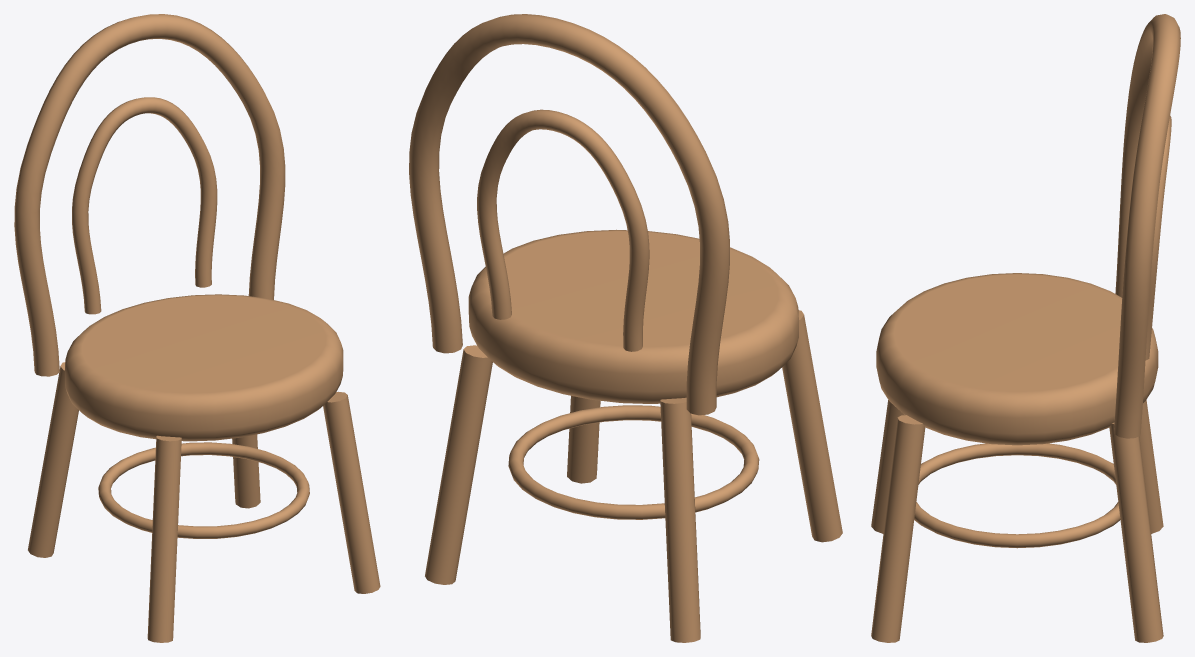
File: kitchenChairBistro.glb
3 renders of one model, left to right at view 1: azimuth 30°, elevation 25°; view 2: azimuth 150°, elevation 25°; view 3: azimuth 270°, elevation 25°, orthographic. The views are drawn at different scales.
Parts seen in each view (by area): view 1: Dining chair seat, Bentwood outer back, Bentwood inner back, Chair leg brace, Splayed chair leg, Splayed chair leg.002, Splayed chair leg.001, Splayed chair leg.003; view 2: Dining chair seat, Bentwood outer back, Bentwood inner back, Chair leg brace, Splayed chair leg.003, Splayed chair leg.001, Splayed chair leg, Splayed chair leg.002; view 3: Dining chair seat, Bentwood outer back, Splayed chair leg.002, Splayed chair leg.003, Chair leg brace, Splayed chair leg, Splayed chair leg.001, Bentwood inner back.
Boxes of the visible parts, left/top/right/bottom form: Dining chair seat: left=65, top=294, right=343, bottom=441; Bentwood outer back: left=14, top=14, right=285, bottom=376; Bentwood inner back: left=72, top=97, right=217, bottom=314; Chair leg brace: left=98, top=442, right=309, bottom=538; Splayed chair leg: left=147, top=435, right=181, bottom=642; Splayed chair leg.002: left=323, top=391, right=380, bottom=593; Splayed chair leg.001: left=28, top=362, right=78, bottom=557; Splayed chair leg.003: left=232, top=434, right=260, bottom=508; Dining chair seat: left=468, top=229, right=798, bottom=403; Bentwood outer back: left=409, top=14, right=729, bottom=415; Bentwood inner back: left=477, top=109, right=649, bottom=351; Chair leg brace: left=508, top=405, right=759, bottom=519; Splayed chair leg.003: left=425, top=345, right=492, bottom=584; Splayed chair leg.001: left=660, top=397, right=700, bottom=642; Splayed chair leg: left=782, top=310, right=842, bottom=542; Splayed chair leg.002: left=567, top=396, right=600, bottom=483; Dining chair seat: left=876, top=273, right=1158, bottom=445; Bentwood outer back: left=1114, top=14, right=1180, bottom=438; Splayed chair leg.002: left=871, top=415, right=925, bottom=642; Splayed chair leg.003: left=1109, top=422, right=1163, bottom=642; Chair leg brace: left=914, top=443, right=1120, bottom=548; Splayed chair leg: left=871, top=400, right=904, bottom=533; Splayed chair leg.001: left=1139, top=400, right=1163, bottom=533; Bentwood inner back: left=1145, top=115, right=1171, bottom=360.
Size of the model in its own units: 0.7751 by 1.4 by 0.7041.
